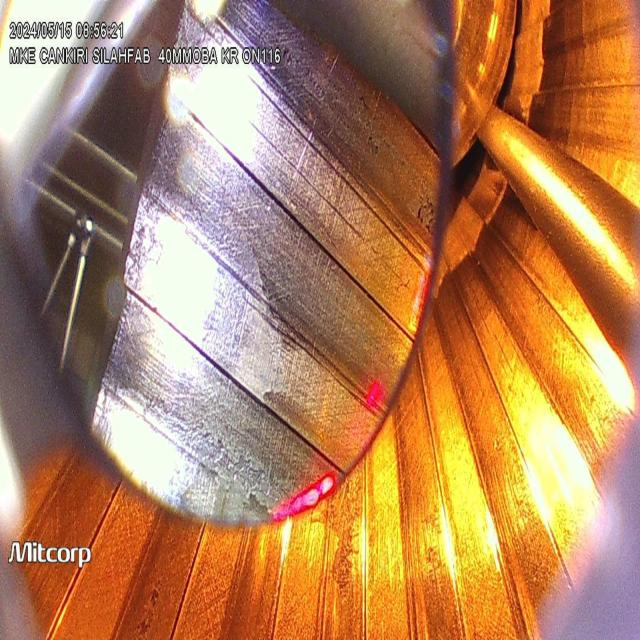hata_2.2: (352, 84, 396, 181), (286, 37, 332, 113), (410, 192, 442, 242)
hata_8.2: (111, 166, 300, 435), (99, 375, 295, 527)
